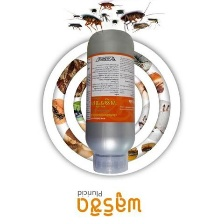insecticide: (82, 28, 139, 176)
